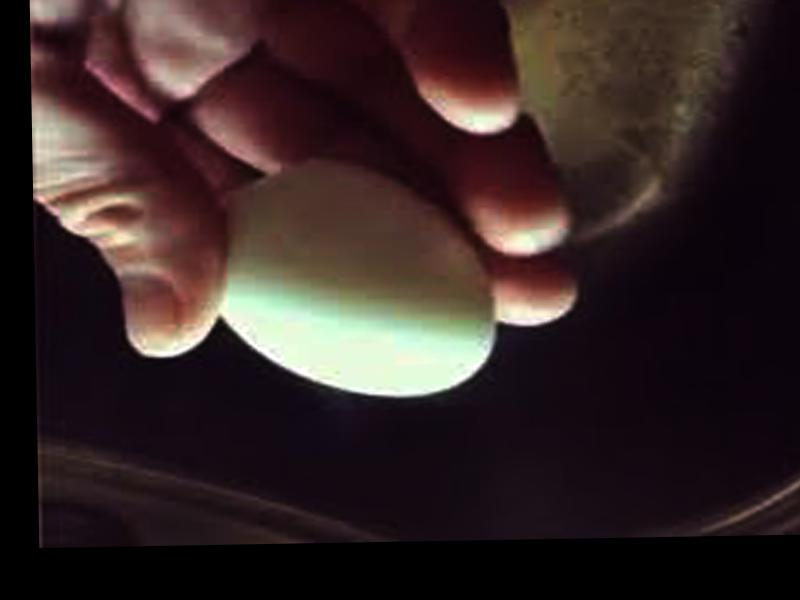Eggs: (211, 163, 491, 400)
